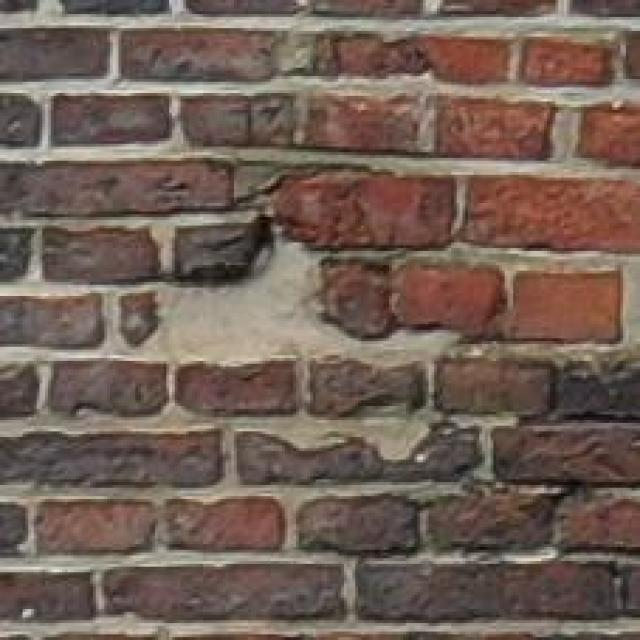Crack: (61, 146, 396, 409)
